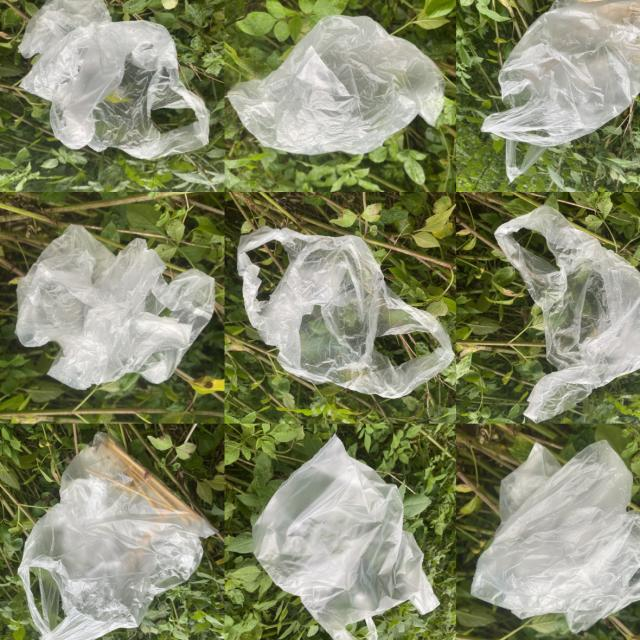plastik: (19, 433, 215, 640), (252, 435, 439, 640), (237, 226, 453, 399), (16, 225, 214, 389), (471, 441, 640, 632), (495, 205, 640, 422), (19, 0, 209, 160), (228, 15, 445, 154), (481, 0, 640, 182)
